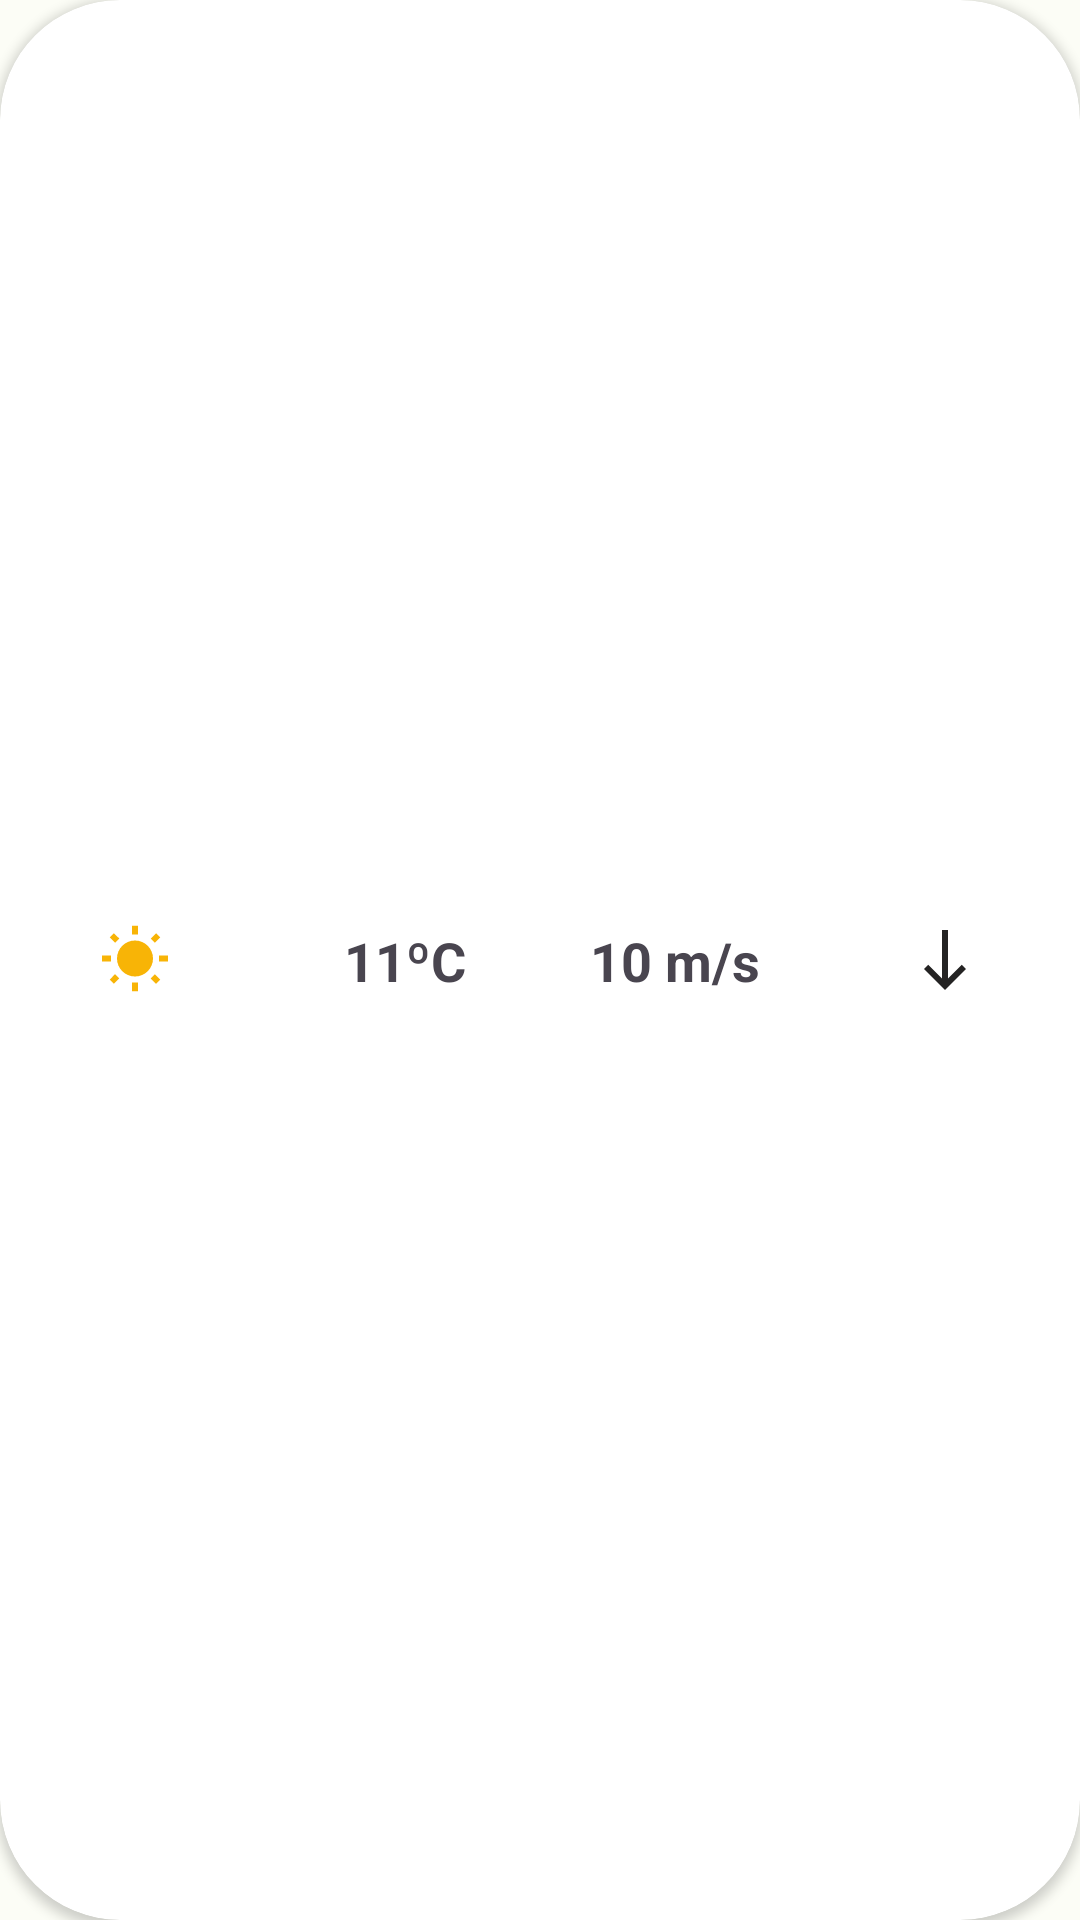

Icon bounding boxes for this 1080px x 1920px phone screenshot, format (x1, y1, x2, y2):
south: (924, 930, 966, 990)
sunny: (102, 925, 168, 992)
